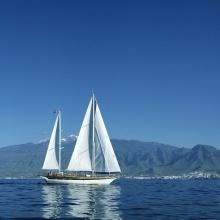fanchuan: (39, 91, 125, 187)
